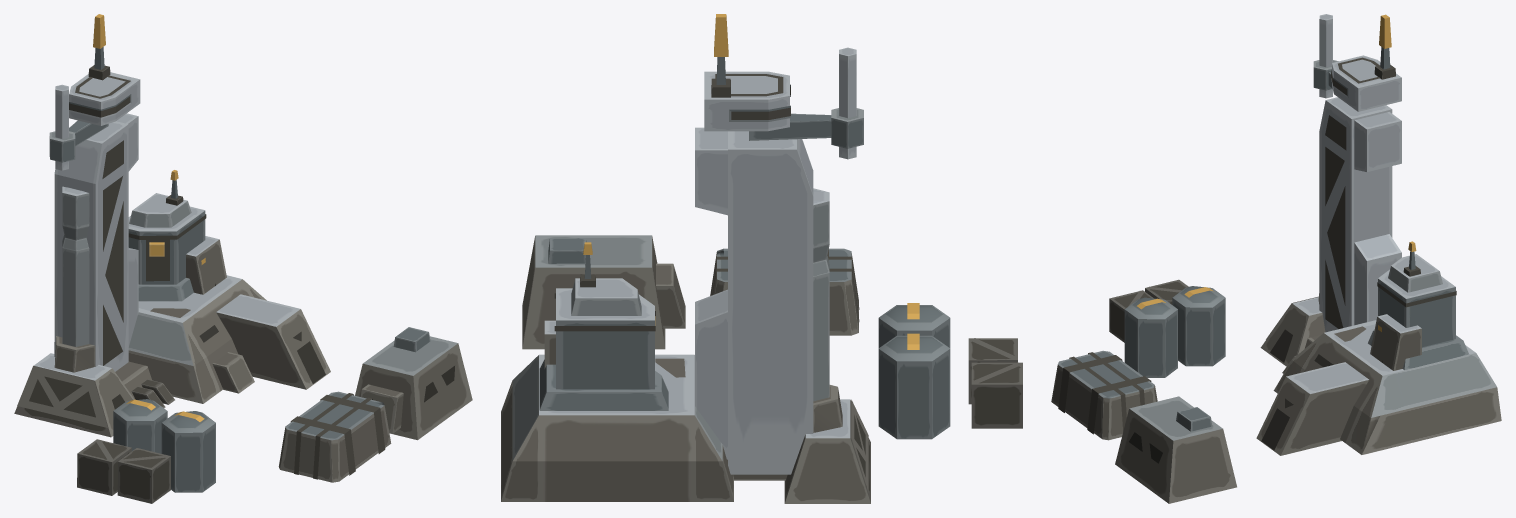
Rendered from watchtower2.FBX.
3 views of the same model, side by side, from view 1: azimuth 30°, elevation 25°; view 2: azimuth 150°, elevation 25°; view 3: azimuth 270°, elevation 25° (orthographic). The views are drawn at different scales.
Visible parts, largest first — view 1: watchtower2, b, c; view 2: watchtower2, b; view 3: watchtower2, b.
Part boxes in pixels (left/top/right/bottom): watchtower2: left=14, top=14, right=472, bottom=503; b: left=49, top=84, right=108, bottom=170; c: left=212, top=352, right=254, bottom=393; watchtower2: left=501, top=14, right=1022, bottom=503; b: left=749, top=47, right=863, bottom=159; watchtower2: left=1051, top=14, right=1501, bottom=503; b: left=1313, top=14, right=1338, bottom=98.
Bounding box in the file's own units: 128 × 130 × 117.
